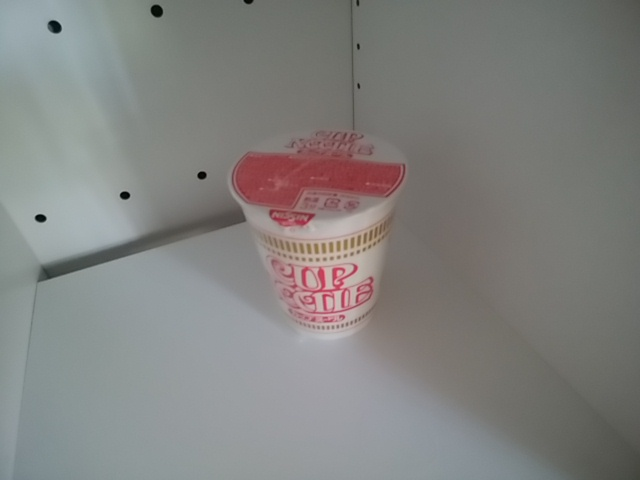cup-ramen: (227, 123, 414, 336)
